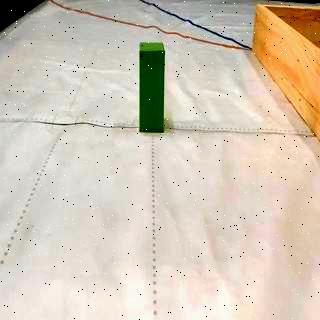greenbox: (138, 41, 166, 133)
